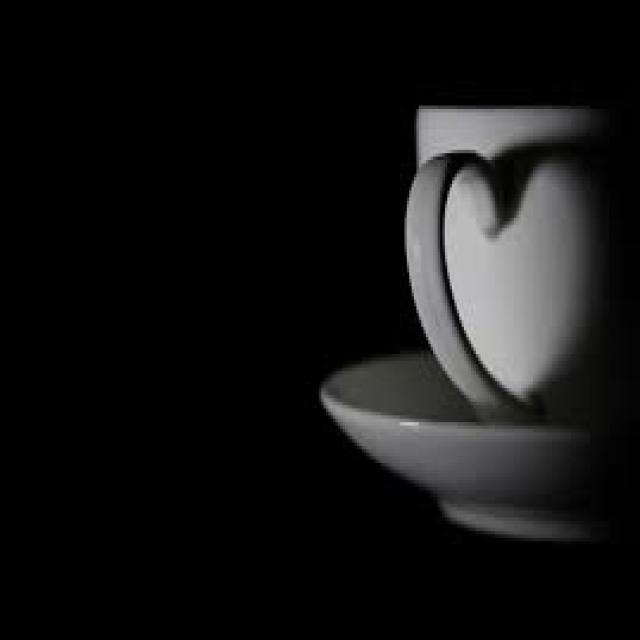taza: (402, 82, 615, 438)
